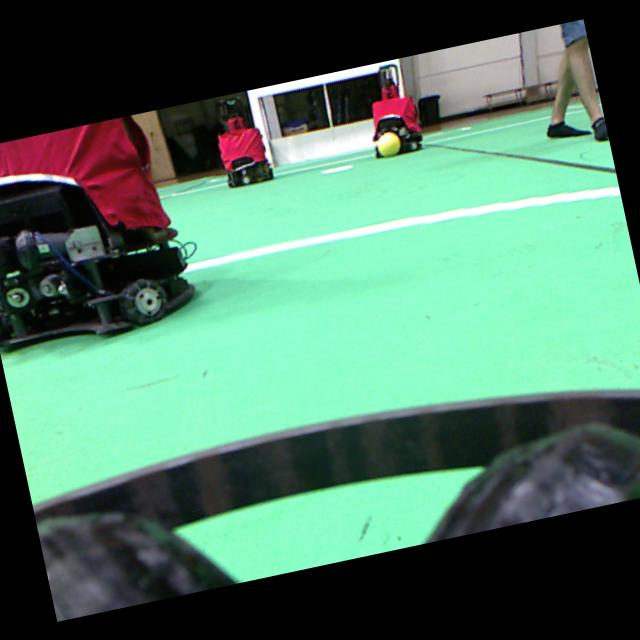ball: (377, 131, 399, 155)
